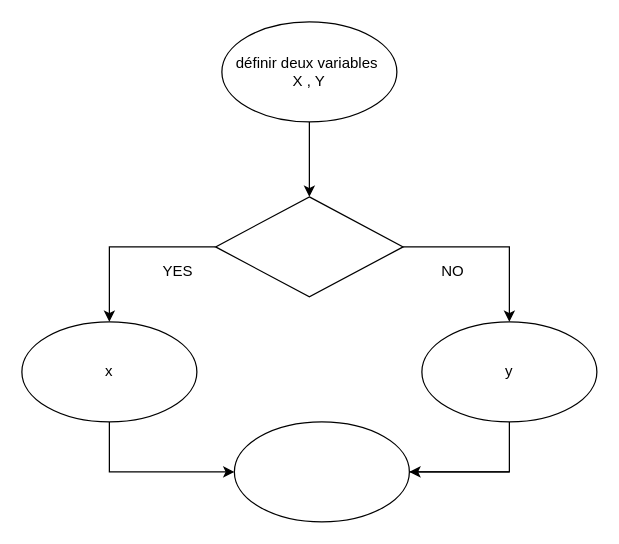
The diagram is 619 pixels wide and 544 high, and some of its shapes have lost their labels. The shapes that lost their labels are listed below. From the top down, each one's centre as x and y in pixels, then its label:
(308,246): Est ce que X>Y
(321,471): afficher le plus grand
